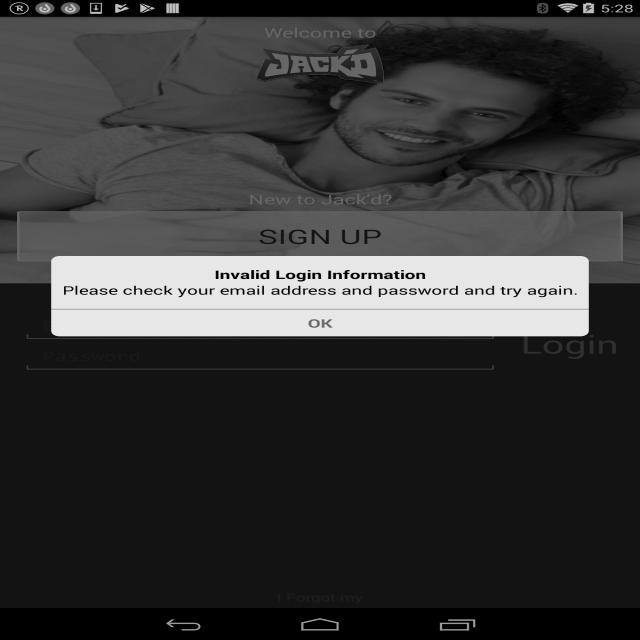ImageView: (77, 38, 590, 192)
TextView: (60, 284, 582, 302), (207, 265, 429, 281), (252, 226, 389, 248), (303, 314, 342, 331)
